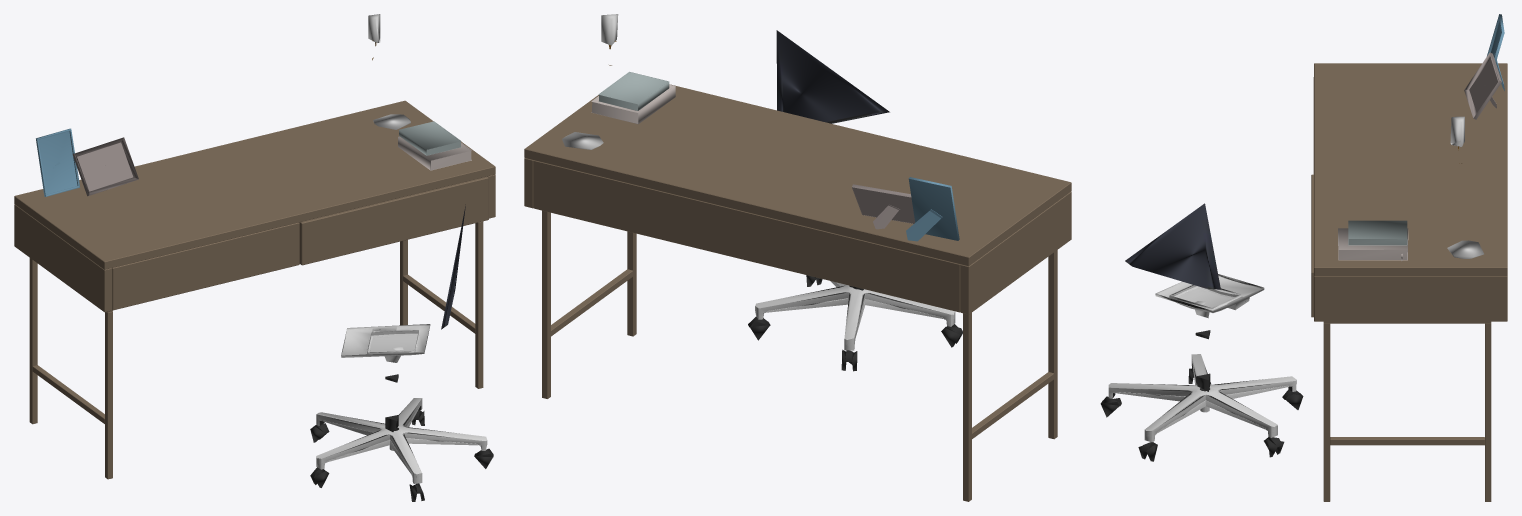
The model's file is desk-set.lod0.glb.
The picture shows the model from 3 angles, left to right: view 1: azimuth 30°, elevation 25°; view 2: azimuth 150°, elevation 25°; view 3: azimuth 270°, elevation 25°; orthographic projection. The views are drawn at different scales.
Visible parts, largest first — view 1: Desk_Desk_0, Office-Chair_Office-Chair_0; view 2: Desk_Desk_0, Office-Chair_Office-Chair_0; view 3: Desk_Desk_0, Office-Chair_Office-Chair_0.
Part boxes in pixels (x1,y1,x2,y2): Desk_Desk_0: (14,14,495,479); Office-Chair_Office-Chair_0: (310,204,493,501); Desk_Desk_0: (524,14,1071,501); Office-Chair_Office-Chair_0: (748,30,962,371); Desk_Desk_0: (1311,14,1507,501); Office-Chair_Office-Chair_0: (1100,203,1303,461).
Size of the model in its own units: 2 by 1.64 by 1.68.
2 materials, 1 textured.
